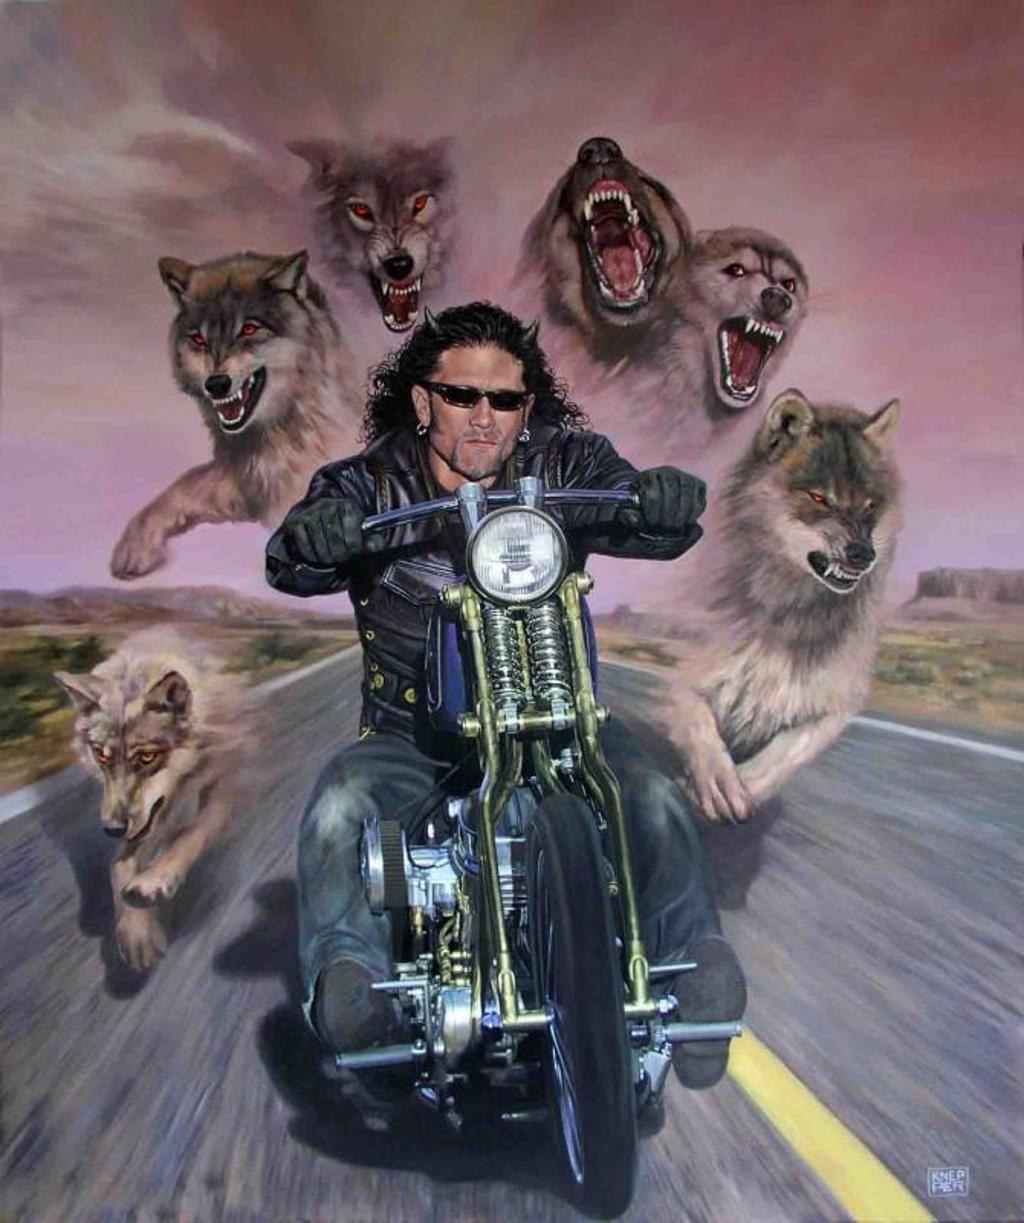face: (423, 342, 530, 480)
